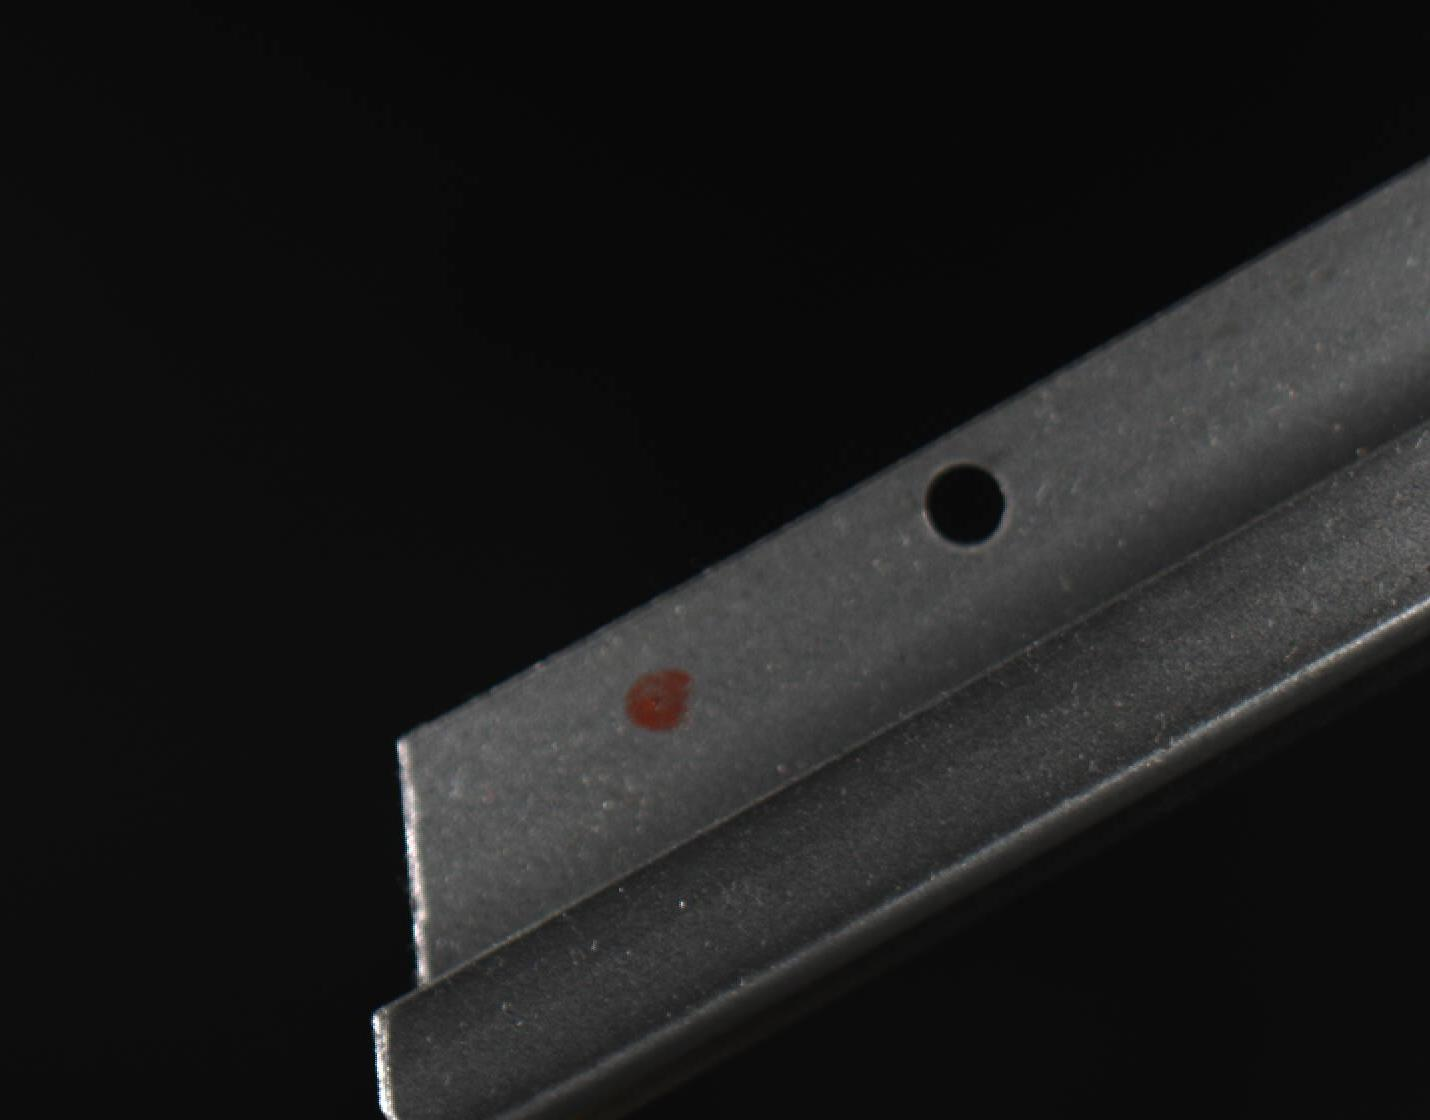cut: (352, 640, 816, 1113)
holes: (920, 458, 1009, 547)
